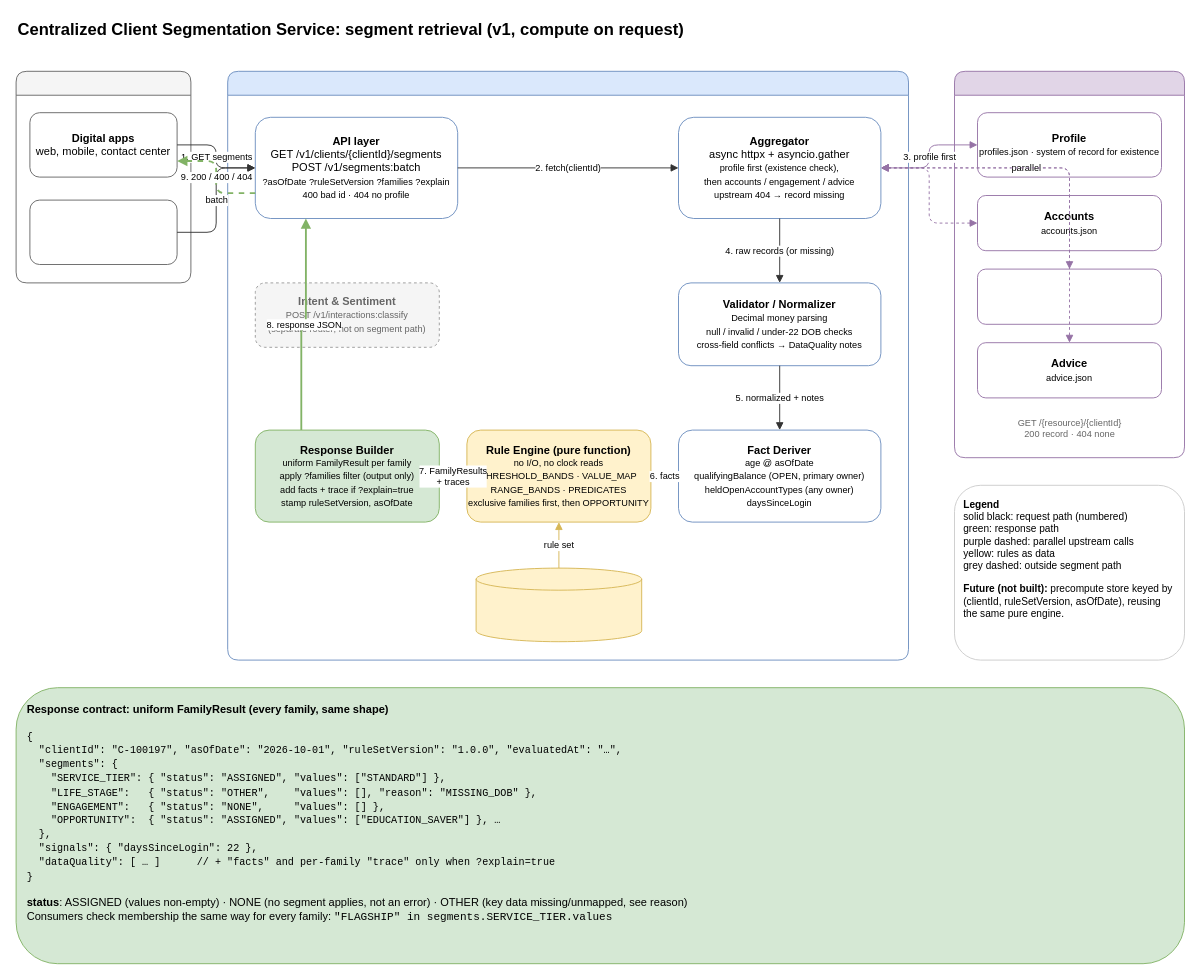
Some shapes in this 1201 by 980 pixel diagram are drawn without their labels. The box of each missing label's shape, as (x1, y1, x2, y2) in pixels:
Consumers: (15, 70, 191, 283)
Demo dashboard React: (29, 199, 177, 264)
Engagement engagement.json: (977, 268, 1162, 324)
Mock upstreams (FastAPI, own container): (954, 70, 1184, 458)
rulesets/v1.0.0.json versioned, immutable schema-validated at startup: (475, 567, 642, 642)
Segmentation Service (FastAPI, containerized): (227, 70, 908, 660)
